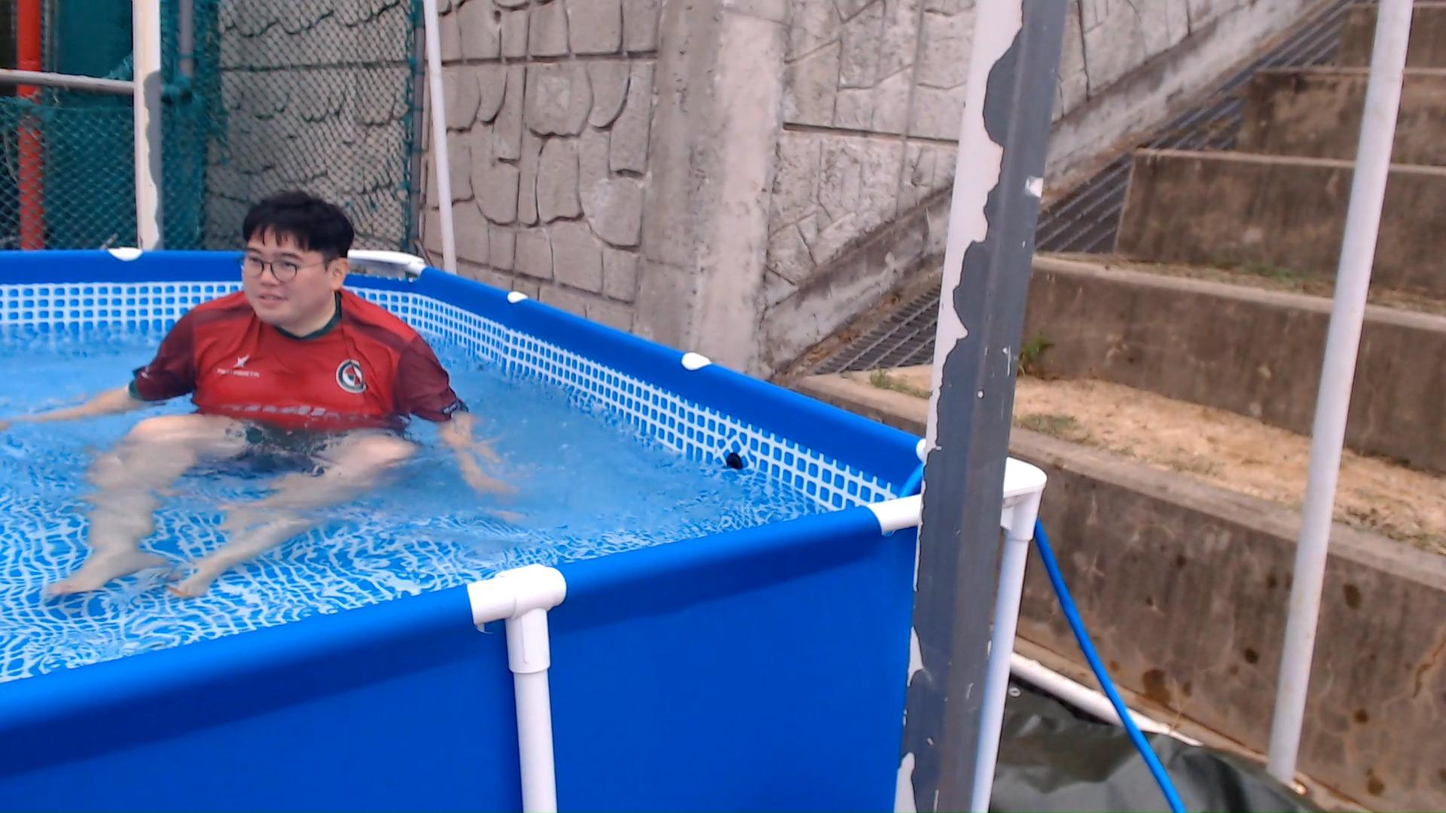Swimming: (0, 172, 583, 614)
